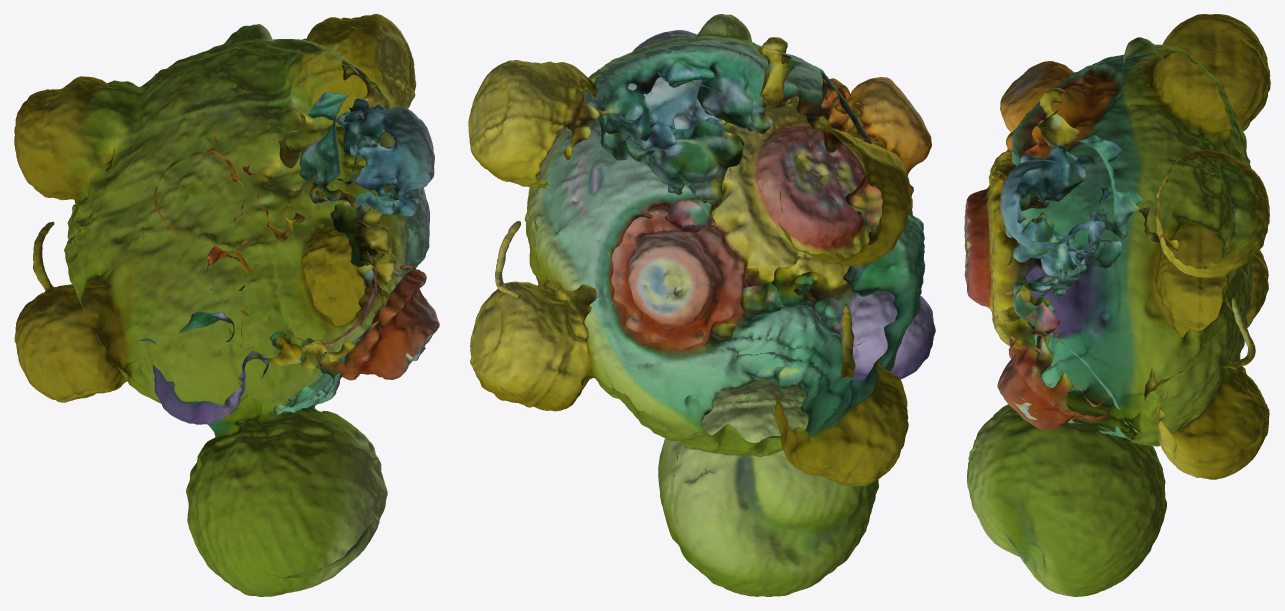
Rendered from turtle.glb.
3 views of the same model, side by side, from view 1: azimuth 30°, elevation 25°; view 2: azimuth 150°, elevation 25°; view 3: azimuth 270°, elevation 25° (orthographic). The views are drawn at different scales.
Bounding box in the file's own units: 0.7185 × 1 × 0.5065.
